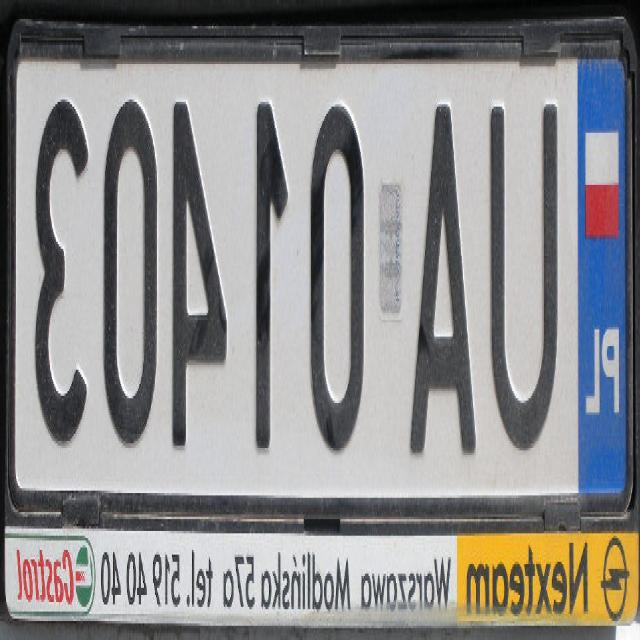pl_license_plate: (11, 48, 629, 510)
